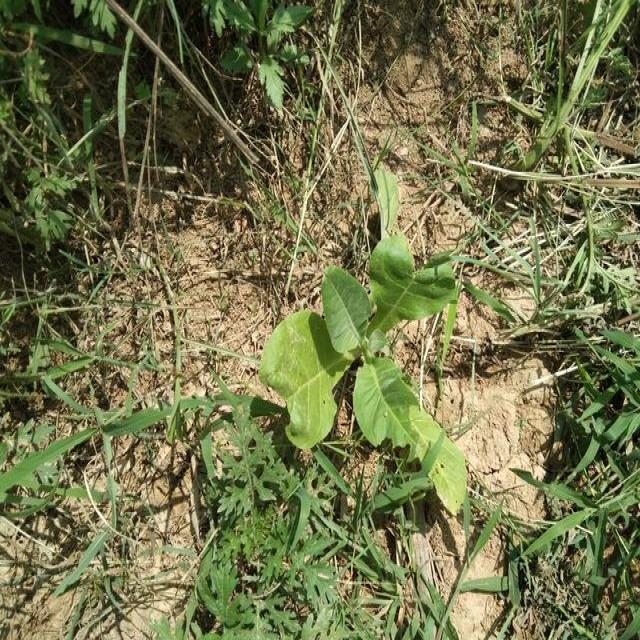crop: (259, 235, 468, 514)
